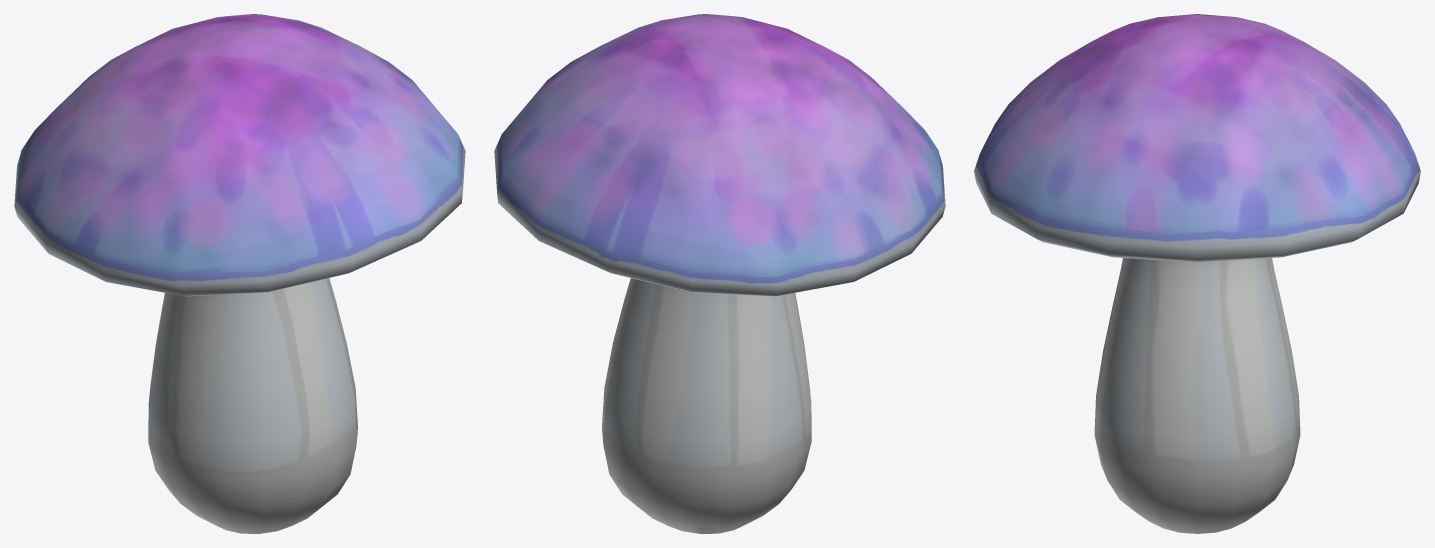
The model's file is shrum.fbx.
The picture shows the model from 3 angles, left to right: view 1: azimuth 30°, elevation 25°; view 2: azimuth 150°, elevation 25°; view 3: azimuth 270°, elevation 25°; orthographic projection.
Parts seen in each view (by area): view 1: shummm; view 2: shummm; view 3: shummm.
Part boxes in pixels (left/top/right/bottom): shummm: left=14, top=14, right=465, bottom=533; shummm: left=494, top=14, right=945, bottom=533; shummm: left=974, top=14, right=1420, bottom=533.
Bounding box in the file's own units: 110 × 131 × 111.
